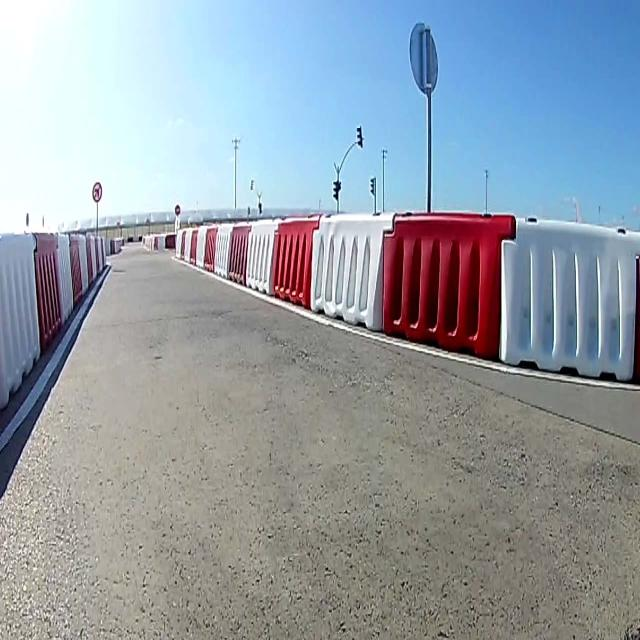soladonulmez: (93, 181, 101, 202)
